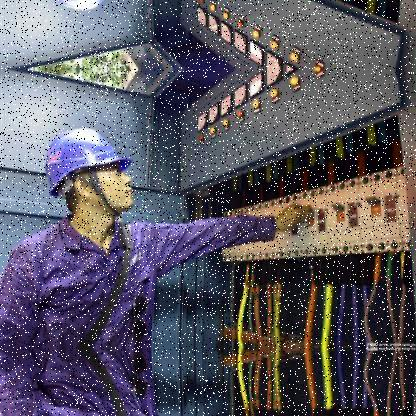Helmet: (35, 115, 145, 236)
